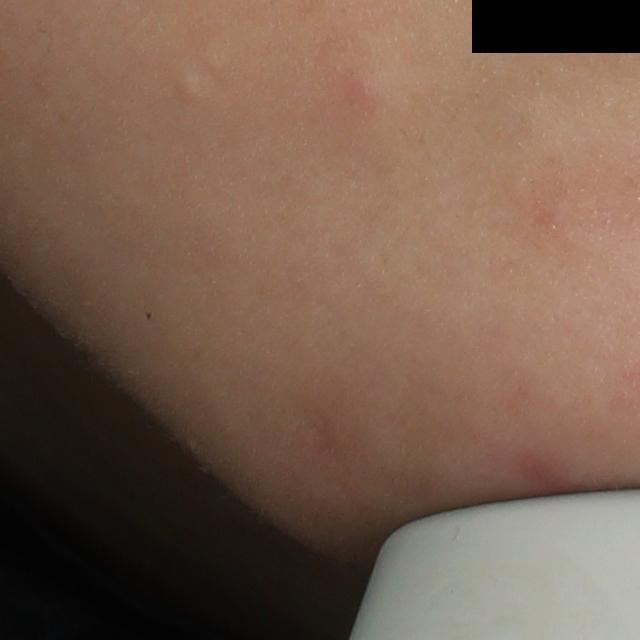comedo: (341, 68, 391, 118), (178, 71, 202, 99), (207, 48, 227, 72)
